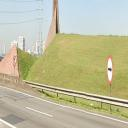NoSeguir: (13, 56, 17, 66)
